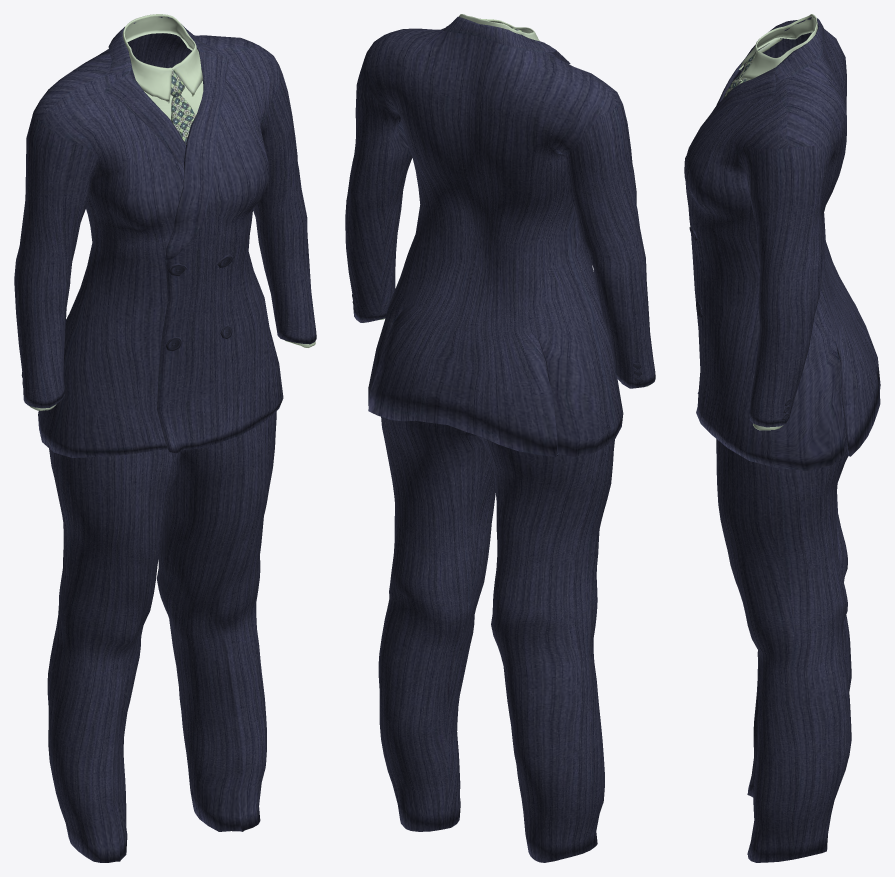
Rendered from full_suit_double_breasted.gltf.
3 views of the same model, side by side, from view 1: azimuth 30°, elevation 25°; view 2: azimuth 150°, elevation 25°; view 3: azimuth 270°, elevation 25° (orthographic). The views are drawn at different scales.
Visible parts, largest first — view 1: full_suit_double_breasted; view 2: full_suit_double_breasted; view 3: full_suit_double_breasted.
Boxes of the visible parts, x1,y1,x2,y2 form: full_suit_double_breasted: [14, 14, 316, 862]; full_suit_double_breasted: [345, 14, 655, 862]; full_suit_double_breasted: [684, 14, 880, 862].
Size of the model in its own units: 0.5021 by 1.35 by 0.2983.
1 material, 1 textured.
